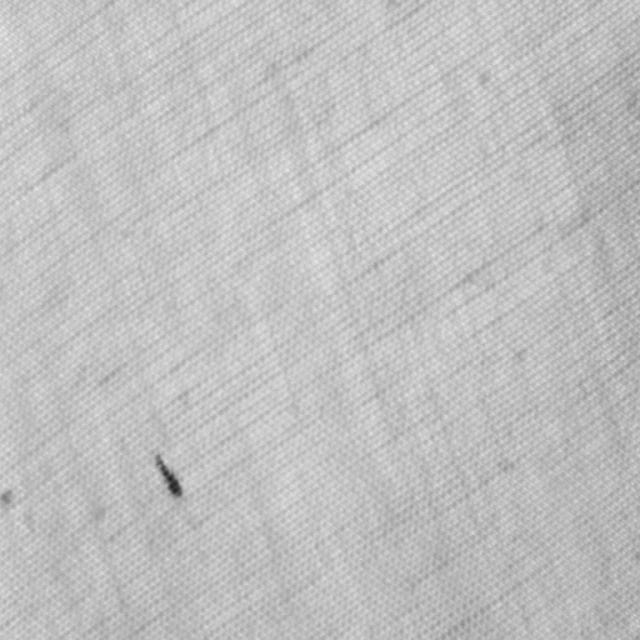oil spot: (152, 446, 183, 500)
